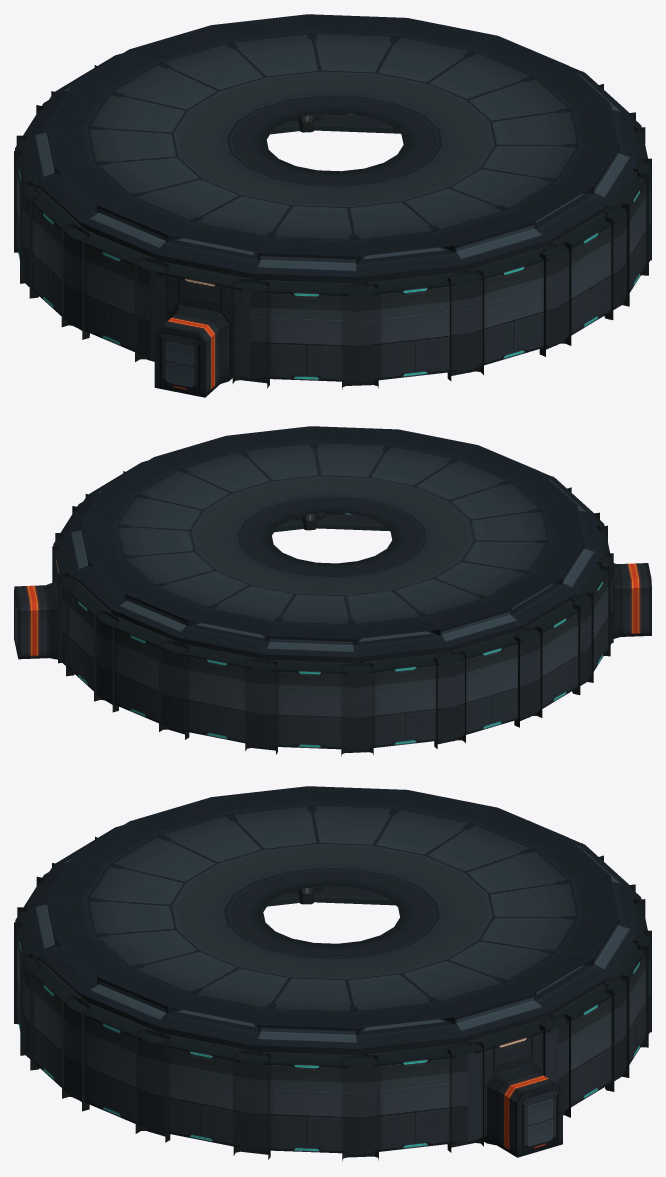
File: ts_cjfaj001.FBX
3 views of the same model, one above another, from view 1: azimuth 30°, elevation 25°; view 2: azimuth 150°, elevation 25°; view 3: azimuth 270°, elevation 25° (orthographic). The views are drawn at different scales.
Parts seen in each view (by area): view 1: ts_cjfaj001; view 2: ts_cjfaj001; view 3: ts_cjfaj001.
Boxes of the visible parts, bbox=[...] form: ts_cjfaj001: bbox=[14, 14, 651, 397]; ts_cjfaj001: bbox=[14, 426, 651, 756]; ts_cjfaj001: bbox=[14, 786, 651, 1161].
Size of the model in its own units: 25.3 by 5.3 by 25.33.
